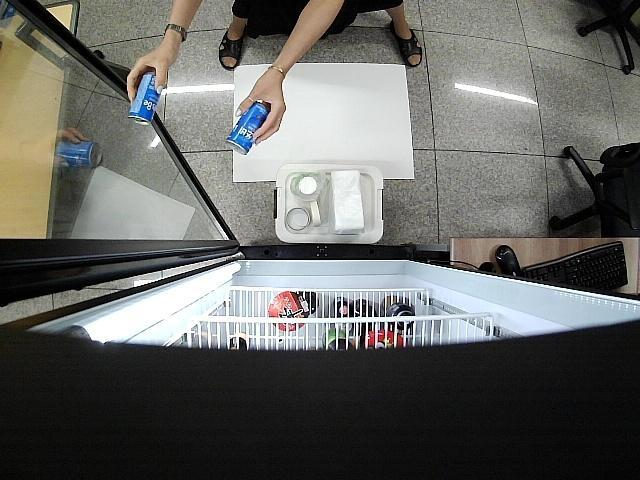15_letsbe: (225, 103, 268, 154), (128, 72, 161, 122)
